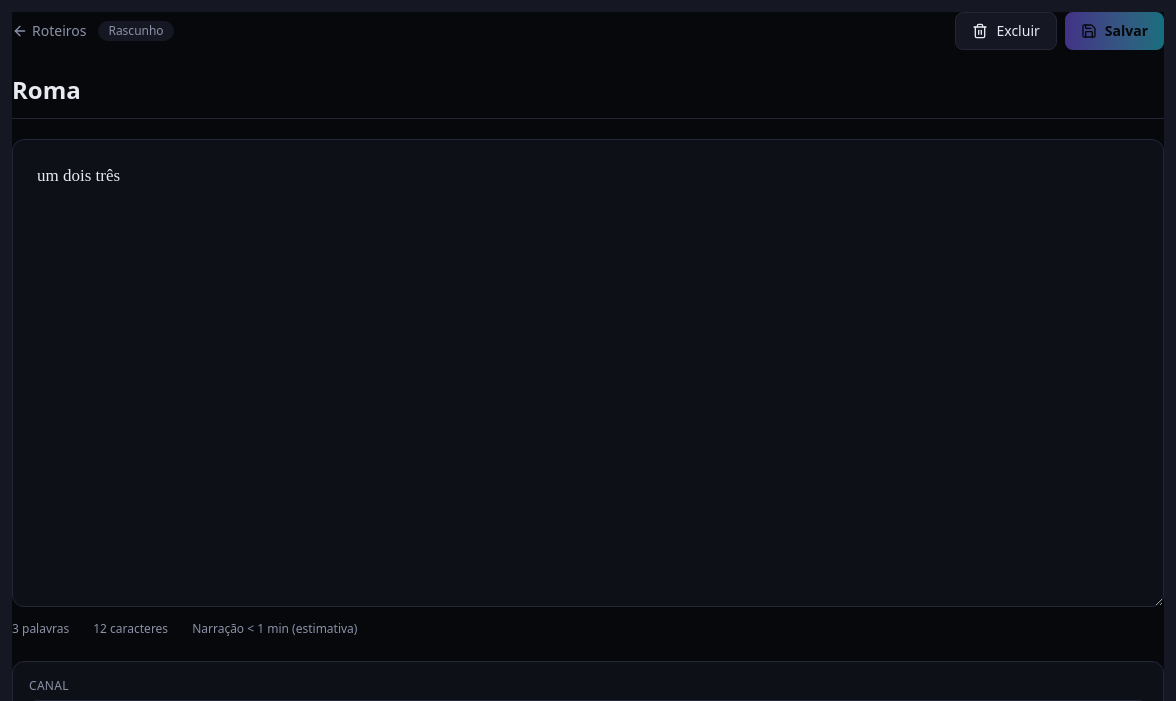
Test: ScriptEditor › edita um roteiro existente: botão salvar só habilita com alteração
Expected: the button "Salvar" is disabled, [1065, 12, 1164, 50]
Replace the text in the field named "Título" with "Roma II" at (588, 96), box [12, 74, 1164, 119]
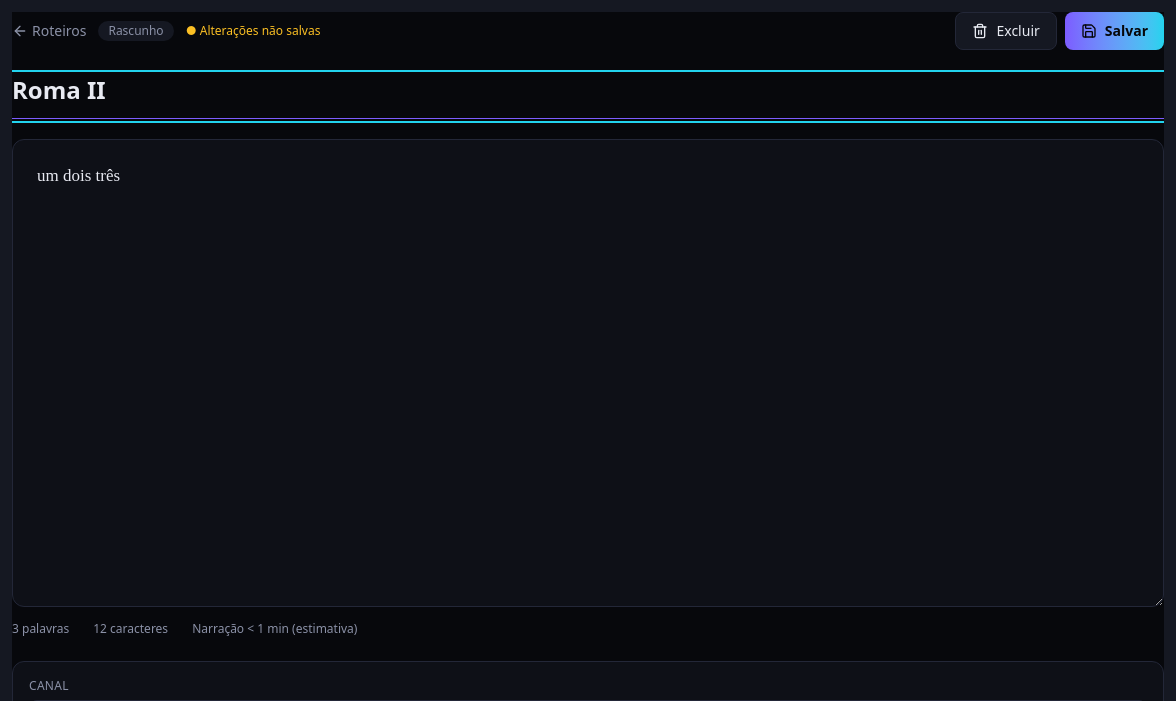
Result: the text "● Alterações não salvas" is shown at [186, 23, 320, 39]
Click the button "Salvar".
click(1114, 31)  # box [1065, 12, 1164, 50]
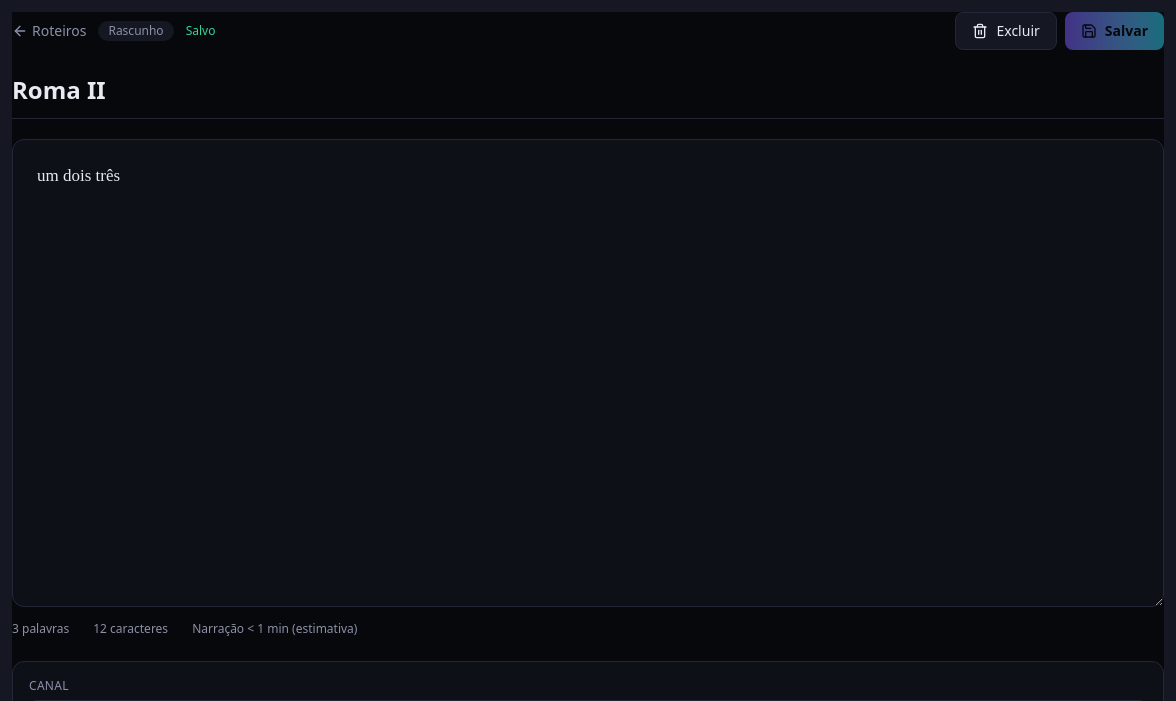
Result: the message reads "Salvo" at [186, 22, 215, 39]
